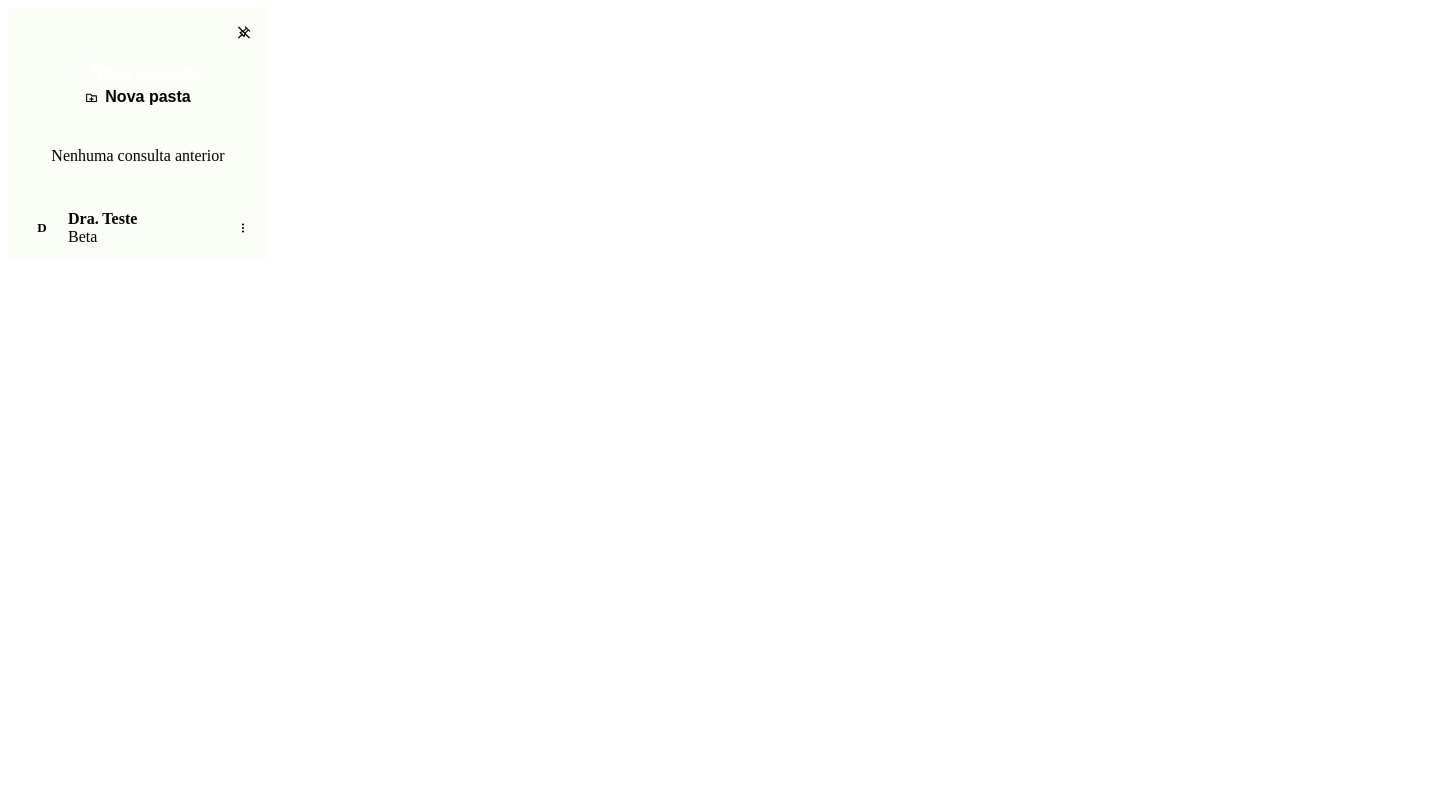
Botão de nova pasta › abre o modal de criação
Click the button "Nova pasta". click: (138, 97)
box: [22,88,254,106]
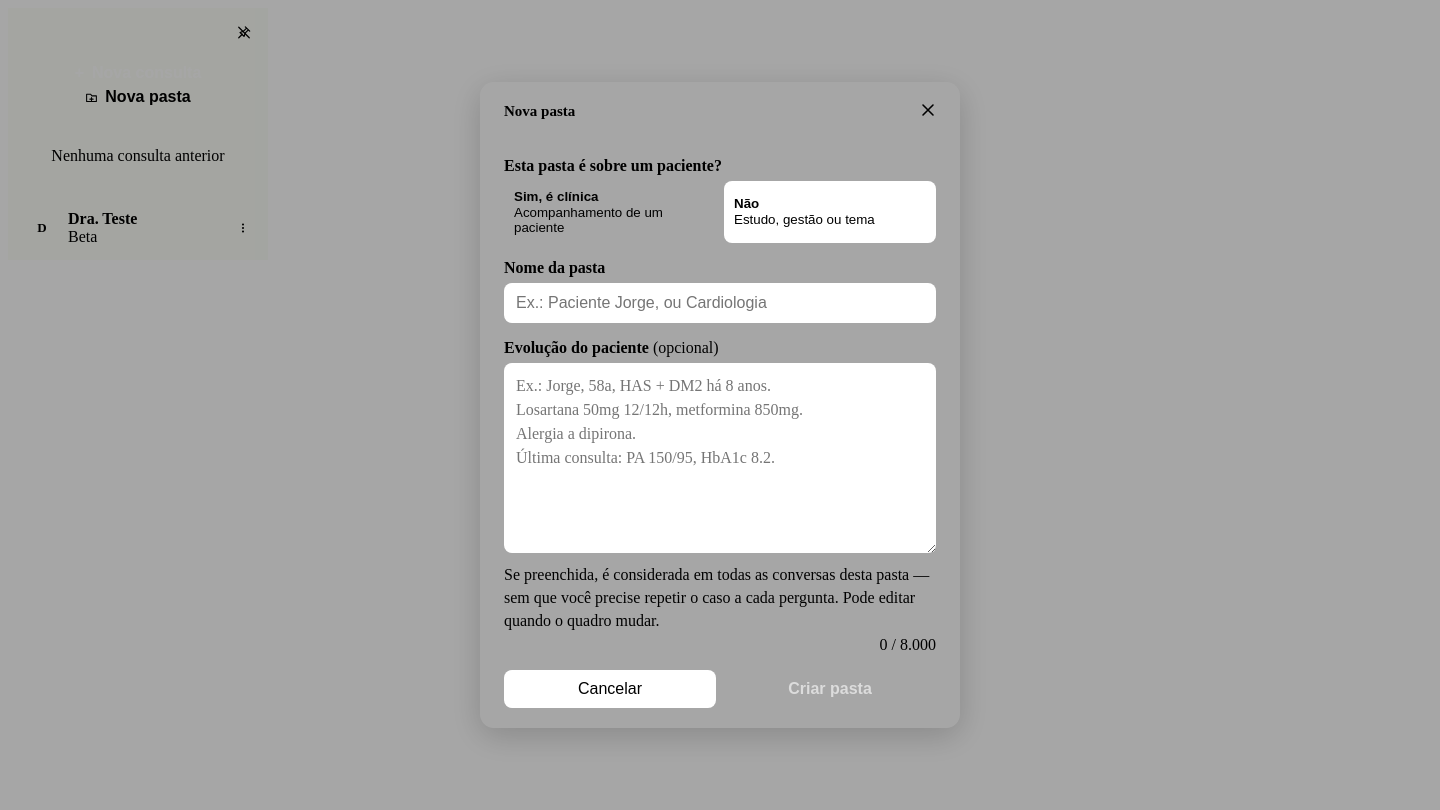
Now the text "Esta pasta é sobre um paciente?" is shown, box [504,157,722,174]
